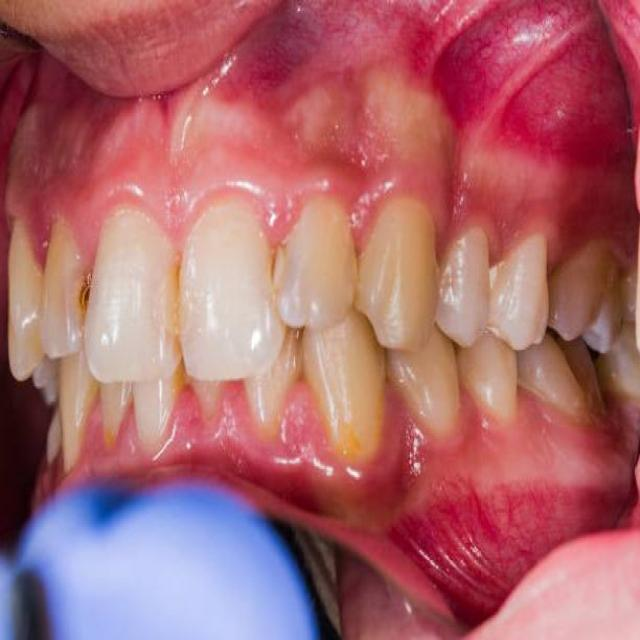caries: (66, 250, 112, 334), (257, 229, 302, 300)
